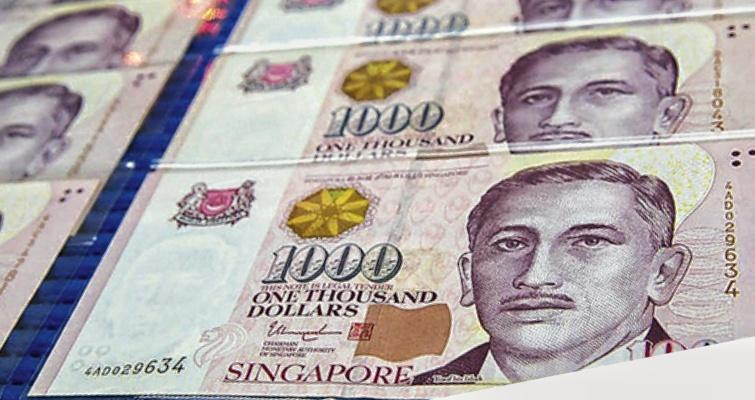1000SingaporeDollar: (86, 151, 755, 389)
